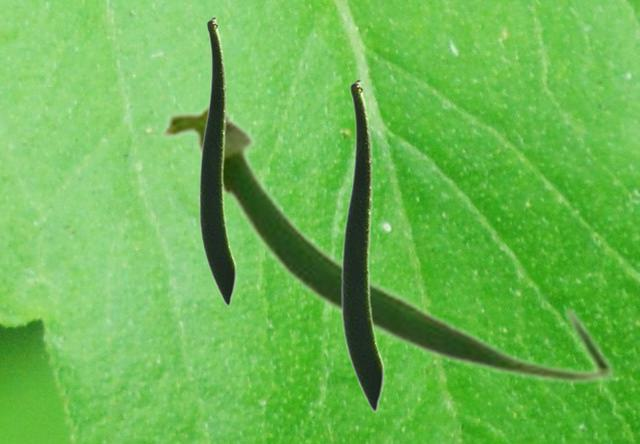french_bean: (158, 99, 616, 386), (340, 77, 384, 412), (198, 15, 236, 306)
